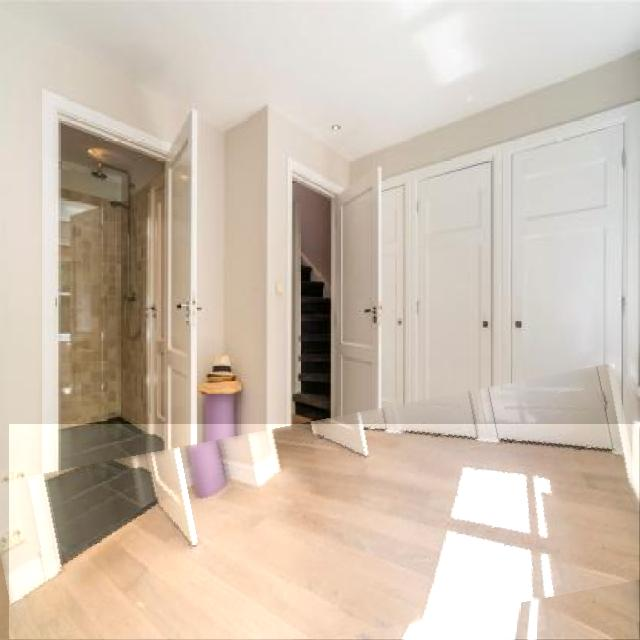floor: (10, 425, 640, 640)
